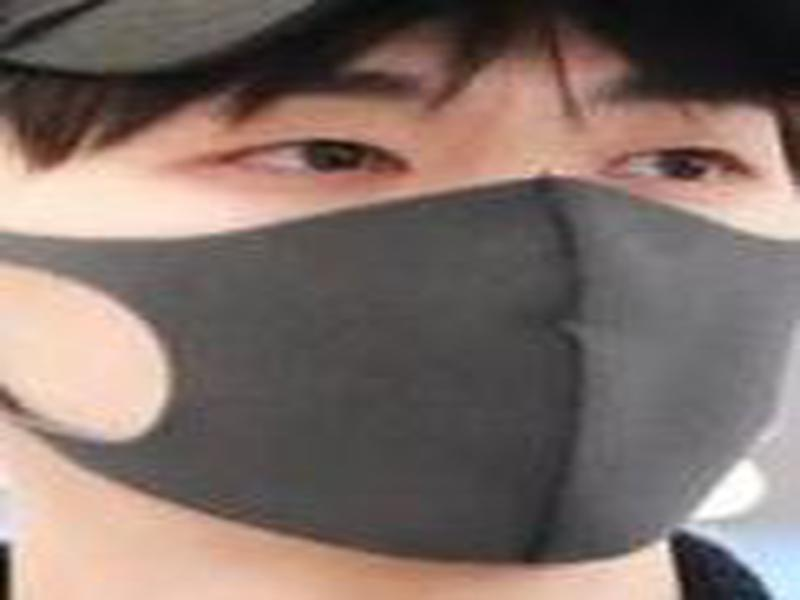with_mask: (1, 19, 797, 576)
